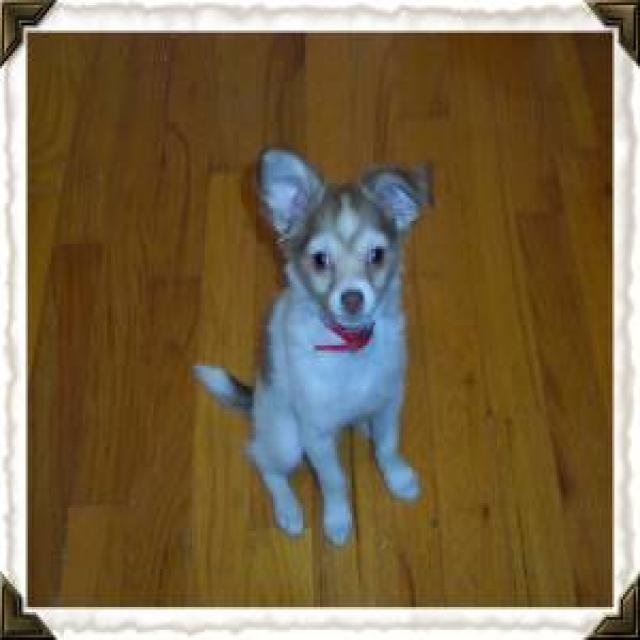dog-chihuahua: (194, 140, 427, 551)
